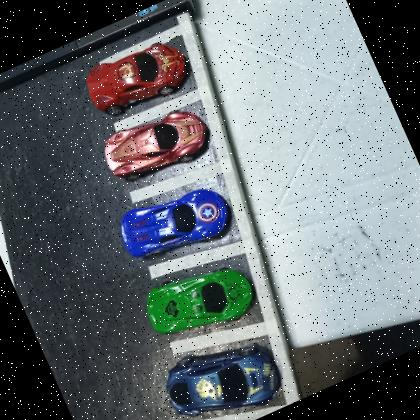Car: (136, 248, 266, 354), (154, 324, 290, 420), (111, 172, 239, 274), (96, 96, 219, 194), (78, 30, 198, 126)
